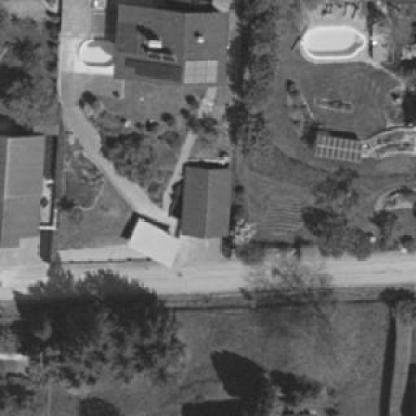solar-pv-panel: (125, 57, 180, 80), (316, 136, 362, 162), (184, 61, 218, 83)
